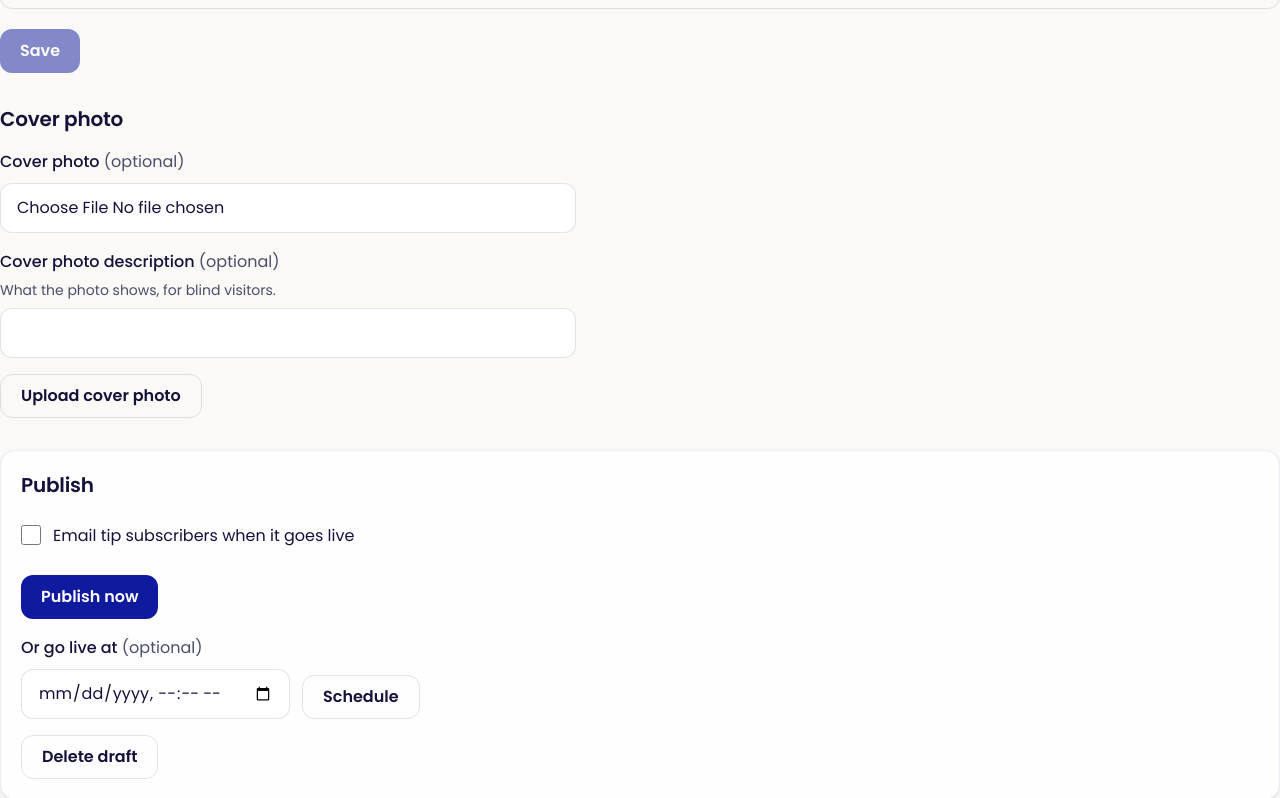
Test: ArticleEditor › shows what is missing before it can be published
(page scrolled)
Click the button "Publish now" at (90, 596), box 21,574 -> 158,618
(page scrolled)
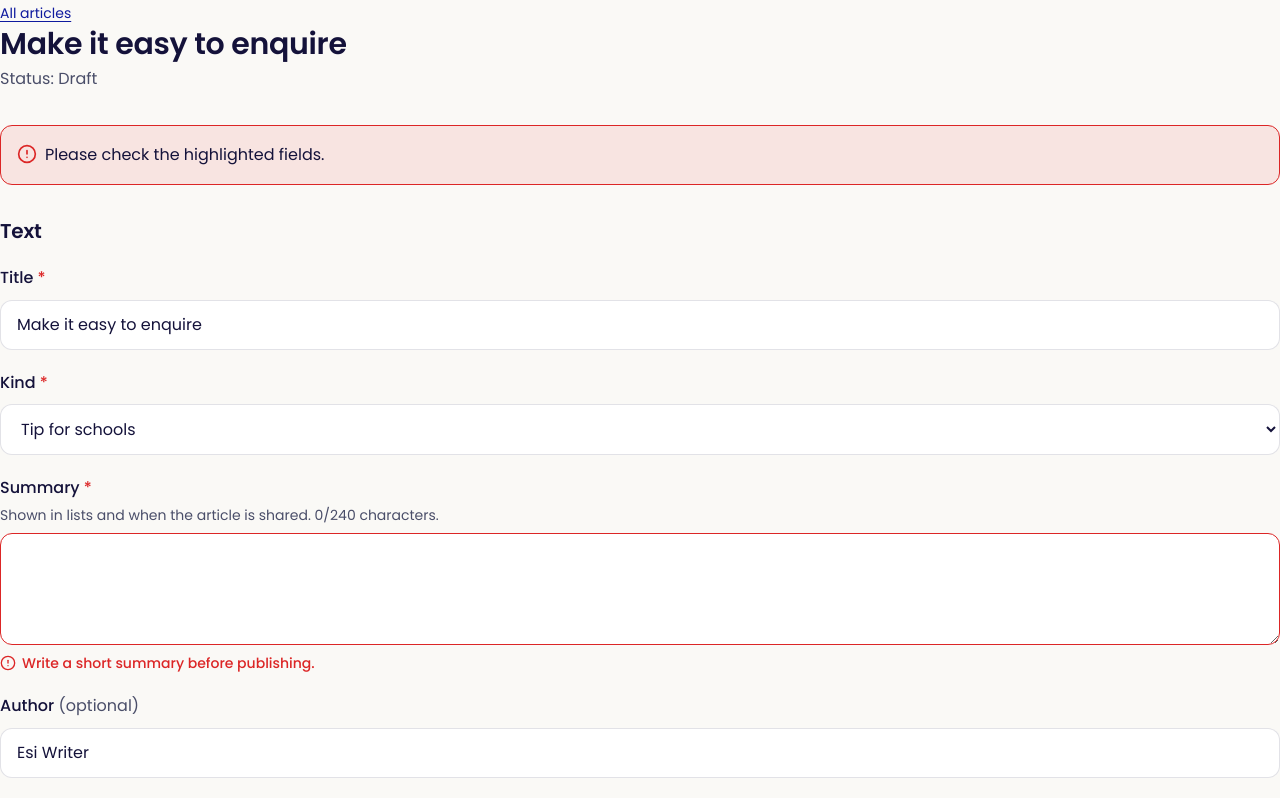
Expected: the text "Write a short summary before publishing." is shown, 0,653 -> 315,673
